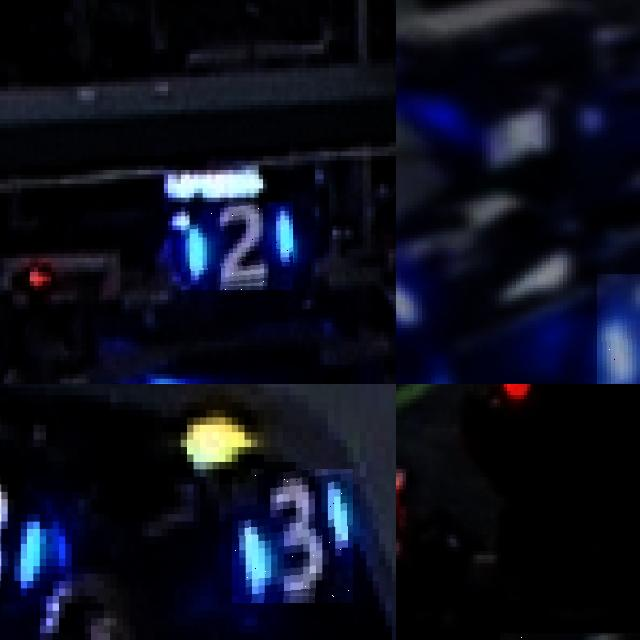B2: (181, 202, 293, 290)
B3: (232, 469, 353, 604), (0, 469, 52, 603), (597, 274, 640, 384)
